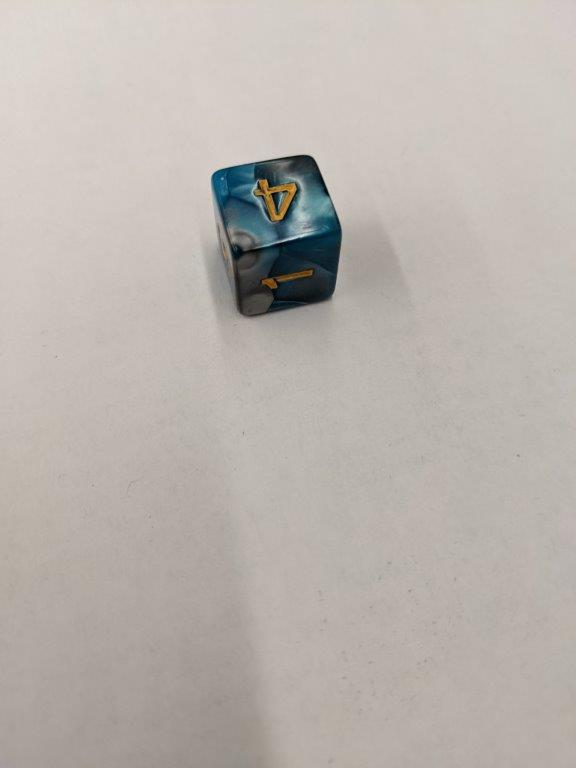d6-4: (208, 154, 343, 318)
